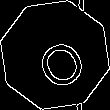O_NW: (23, 22, 87, 88)
